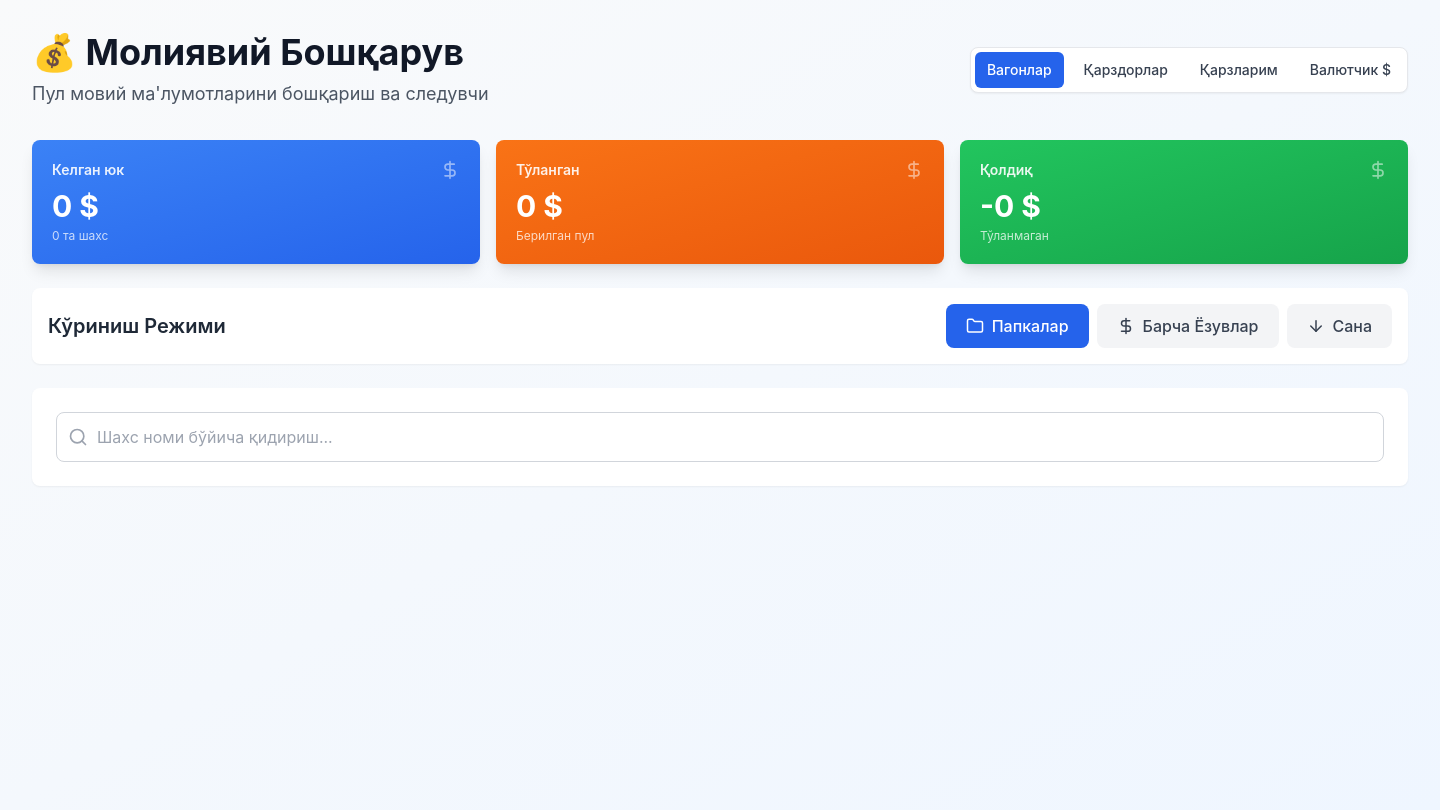
it: Moliya page › overpaid client Ali: repayment defaults to 'Абдуманнон берди' and brings him back
The image size is (1440, 810).
Later steps or results of the test are not shown.
Expected: the button "Вагонлар" is shown, [975, 52, 1064, 88]
Click the button "Қарзларим" at [1239, 70], box [1188, 52, 1290, 88]
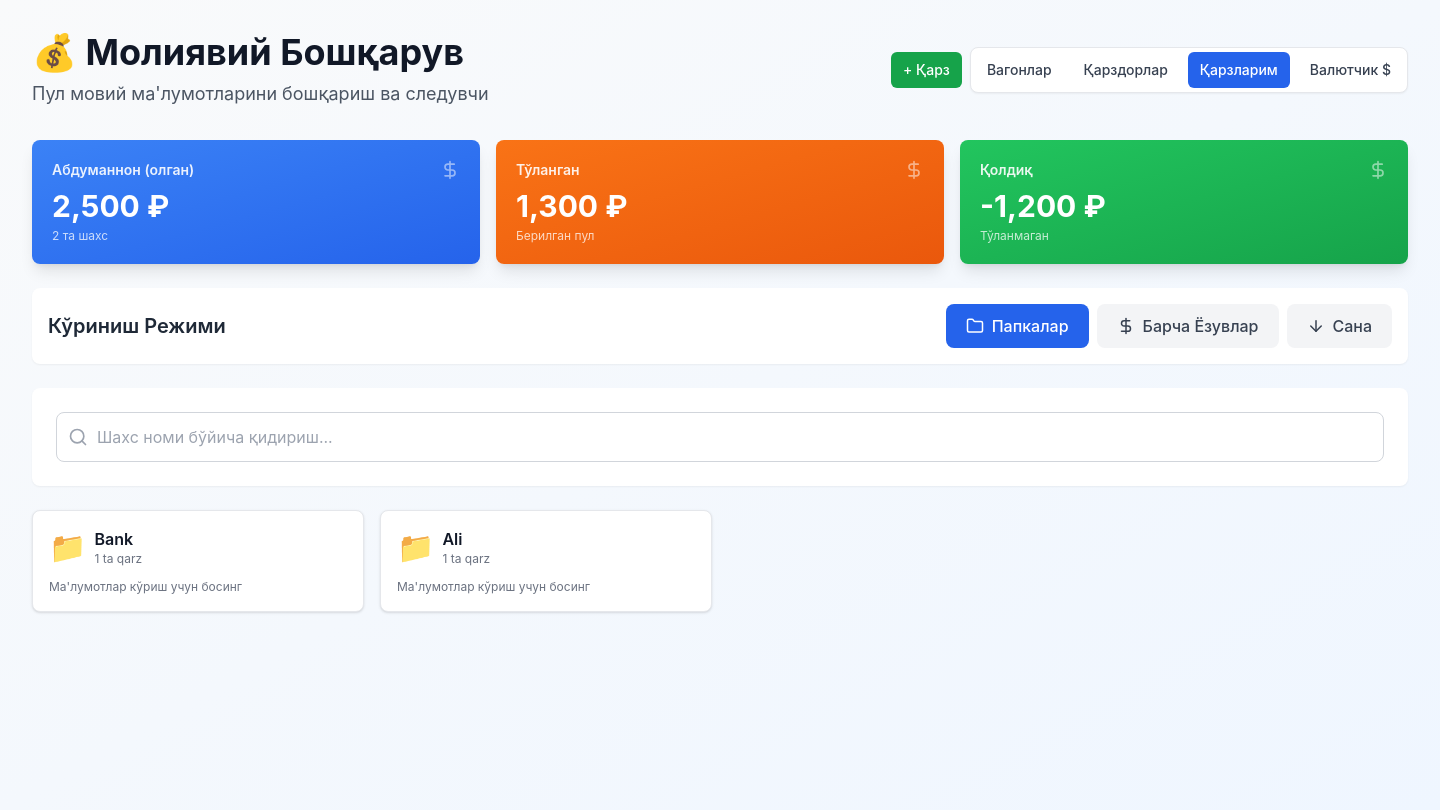
Click the heading "Ali" at [452, 539], box [442, 529, 462, 549]
(page scrolled)
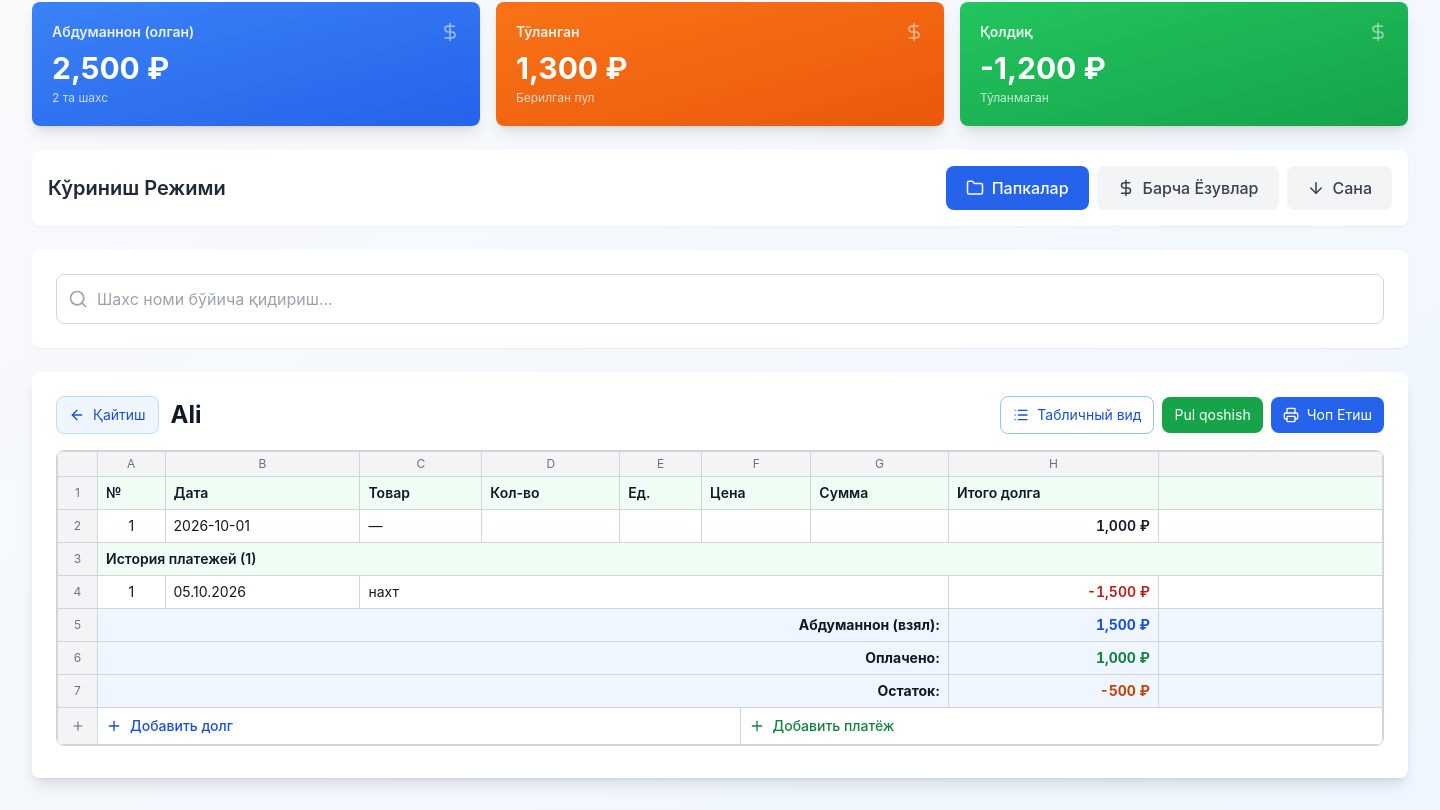
Result: the text "Абдуманнон (взял):" is shown at [98, 608, 948, 642]
Result: the text "-500 ₽" is shown at [948, 674, 1158, 708]
